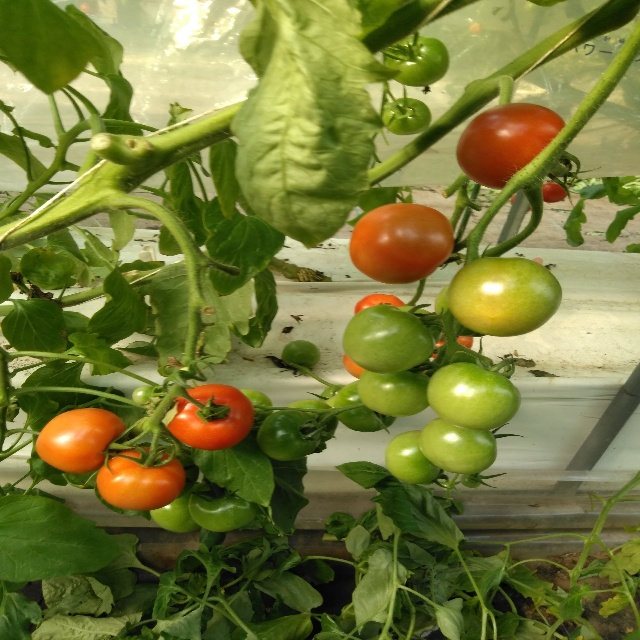l_fully_ripened: (456, 102, 565, 191), (161, 384, 256, 451), (354, 293, 405, 315), (542, 181, 569, 204)
l_green: (446, 257, 562, 338), (341, 306, 436, 374), (427, 363, 523, 430), (419, 417, 497, 475), (188, 479, 258, 533), (358, 365, 430, 417), (333, 379, 398, 432), (257, 409, 322, 462), (383, 36, 449, 87), (385, 429, 443, 485), (149, 481, 202, 534), (435, 285, 487, 337), (154, 445, 199, 499), (283, 400, 340, 442), (380, 98, 431, 136), (395, 304, 443, 344), (238, 388, 274, 432), (281, 340, 320, 369), (132, 385, 160, 404), (461, 473, 481, 489)
l_half_ripened: (348, 202, 455, 285), (36, 408, 126, 473), (96, 446, 185, 511)
